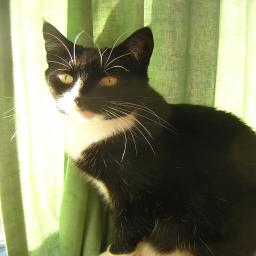catnose: (73, 96, 94, 108)
